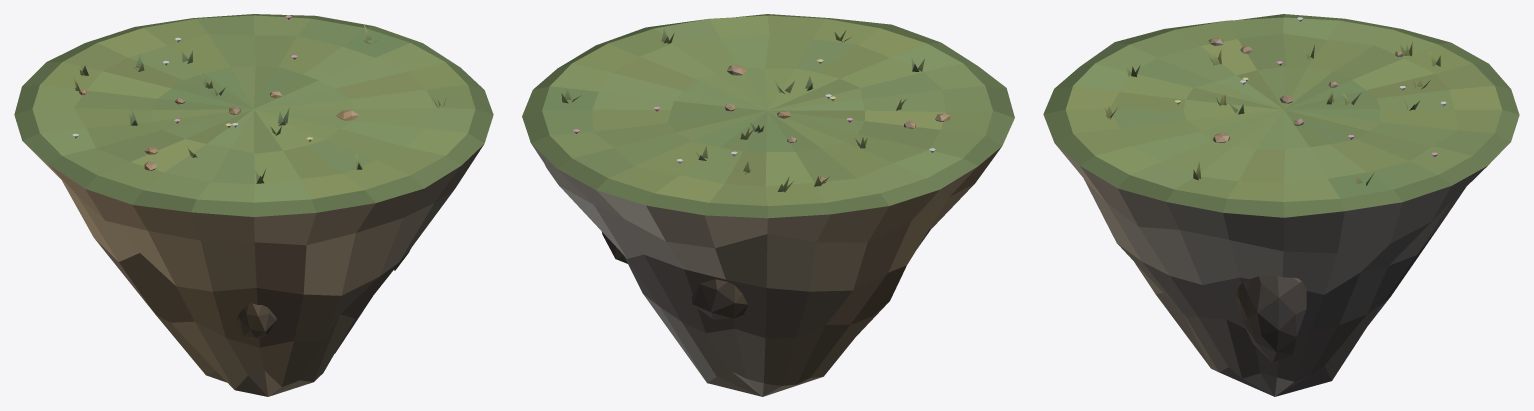
File: islet_small_a.glb
The picture shows the model from 3 angles, left to right: view 1: azimuth 30°, elevation 25°; view 2: azimuth 150°, elevation 25°; view 3: azimuth 270°, elevation 25°; orthographic projection. The views are drawn at different scales.
Parts seen in each view (by area): view 1: islet_small_a; view 2: islet_small_a; view 3: islet_small_a.
Boxes of the visible parts, x1=… form: islet_small_a: x1=14, y1=14, x2=493, y2=396; islet_small_a: x1=522, y1=14, x2=1014, y2=396; islet_small_a: x1=1043, y1=14, x2=1519, y2=396.
Bounding box in the file's own units: 15.09 × 10.47 × 15.27.
